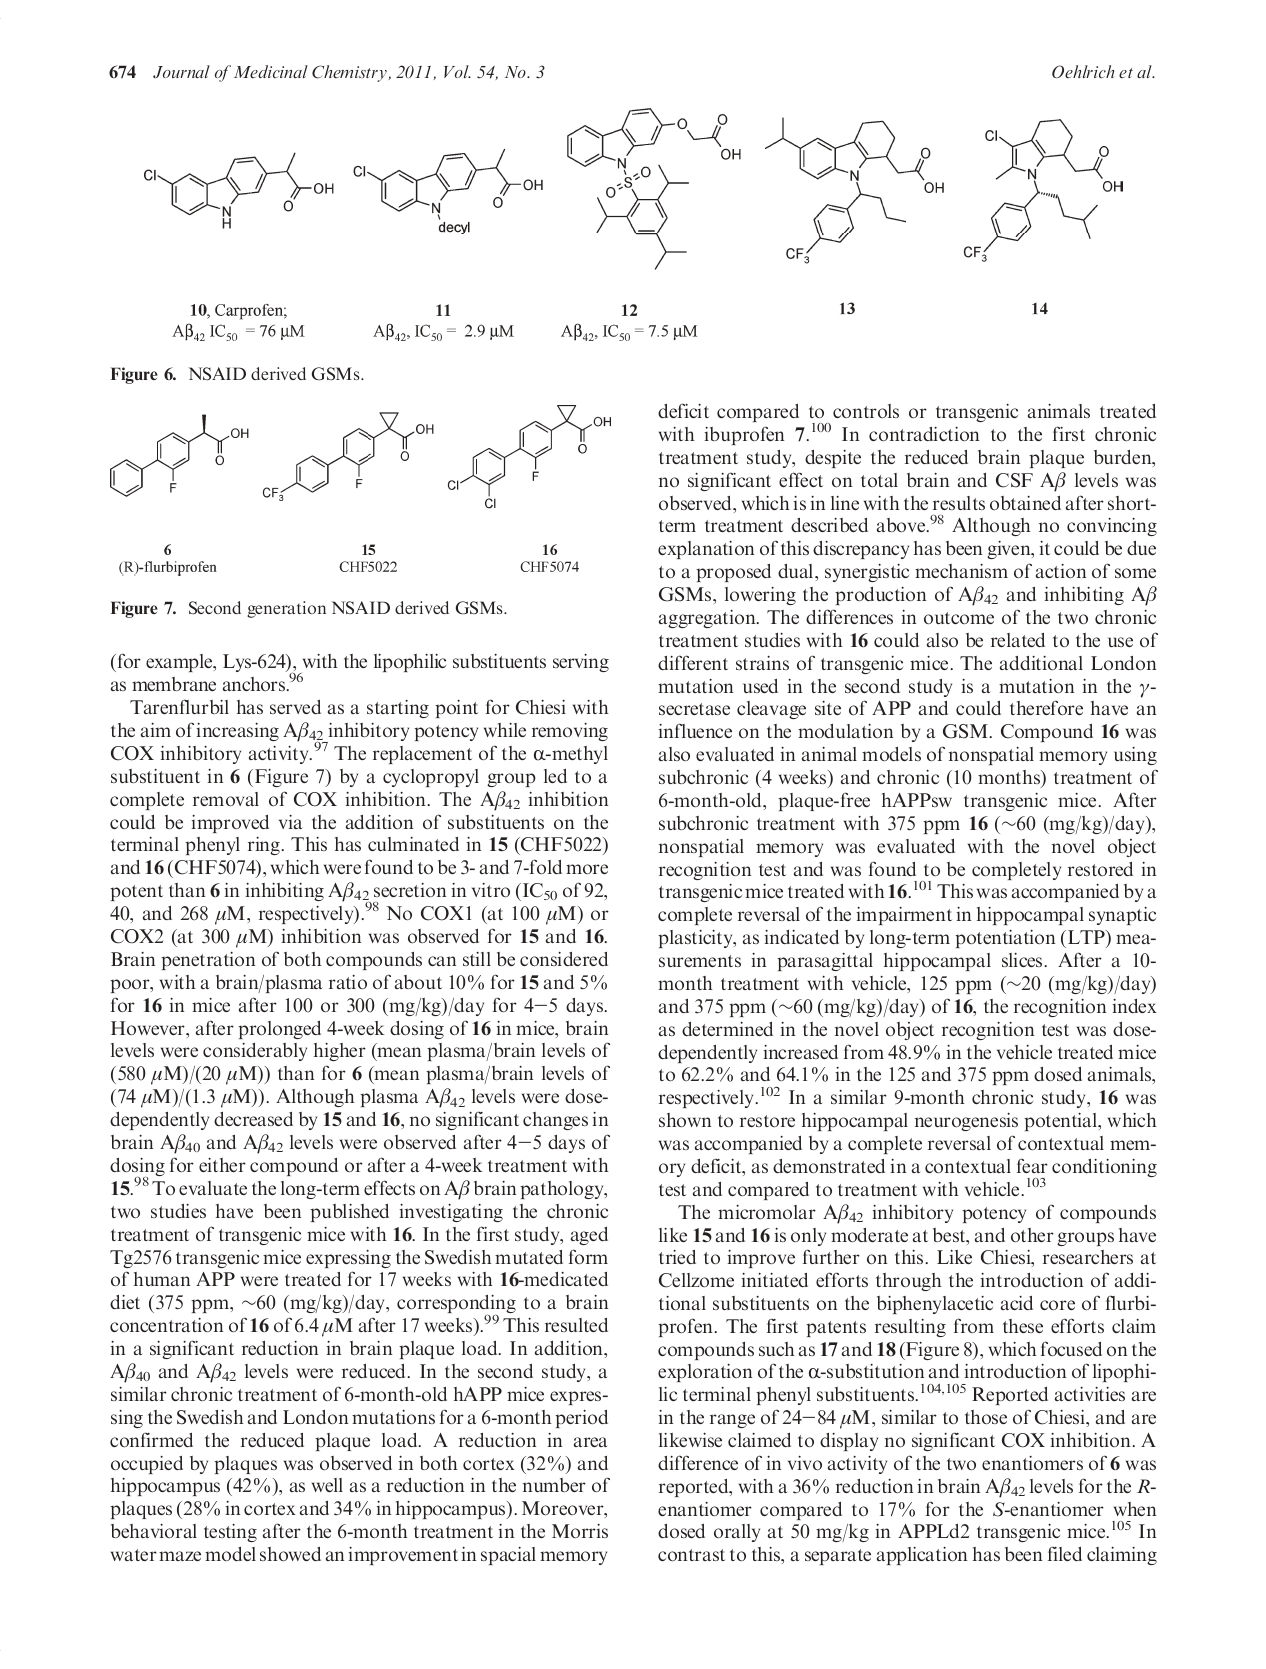exist_molecular: (565, 102, 743, 277), (761, 114, 948, 265), (961, 114, 1126, 273), (445, 402, 617, 512), (351, 148, 559, 234), (262, 406, 436, 501), (141, 146, 336, 230), (105, 404, 251, 501)
